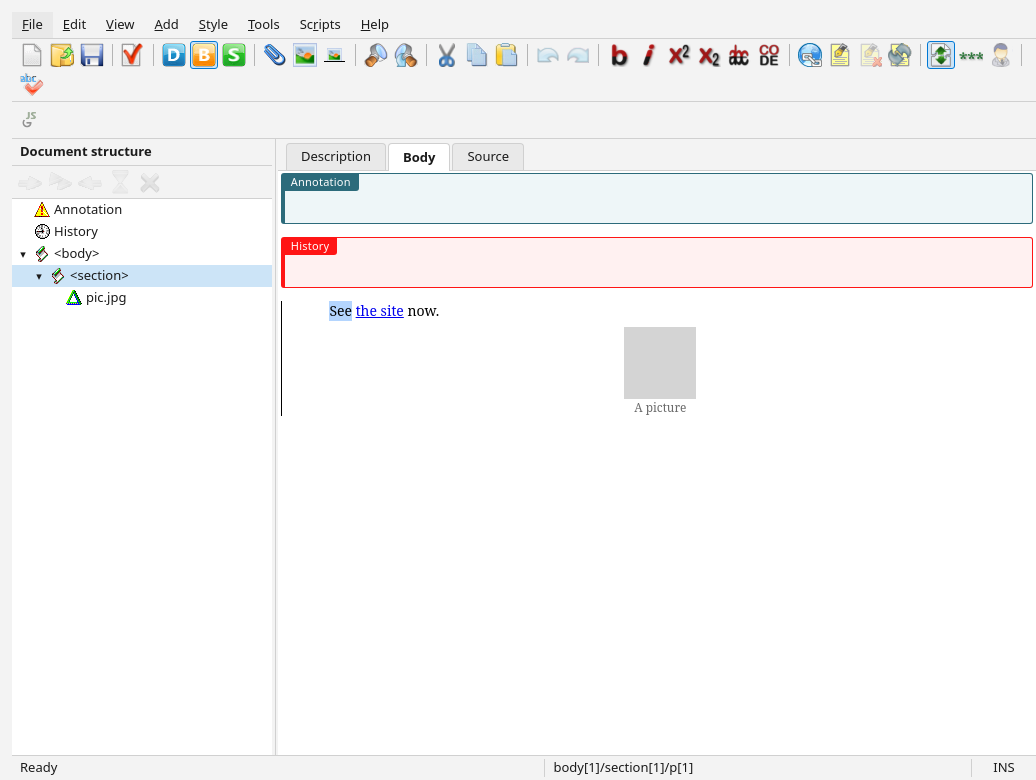
Scenario: Body view chrome (T057/T067) › opens the context menu with Cut / Copy / Paste and Select entries and publishes the selection
Check: the text box with test id "body-editor" is shown, box [281,173,1033,416]
Right-click the element with test id "body-view" at (657, 463), box [278,170,1035,755]
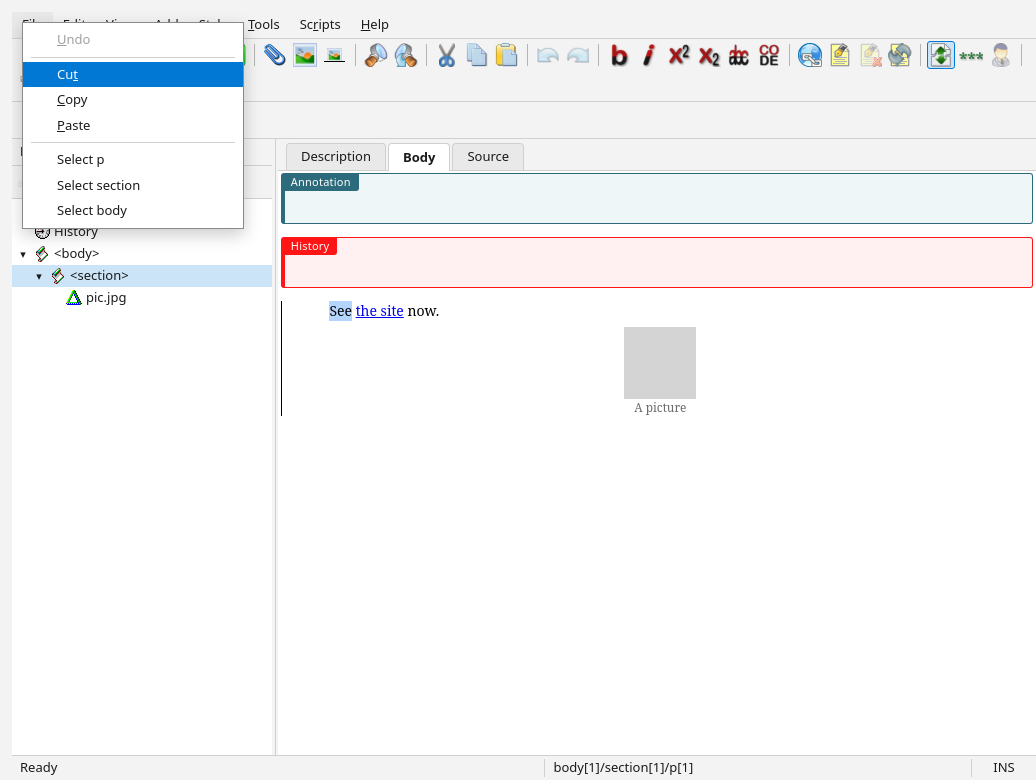
Check: the menu with test id "context-menu" shows "Undo", box [22,22,244,229]
Check: the menu item with test id "context-menu-edit.cut" reads "Cut", box [23,62,243,87]
Check: the menu item with test id "context-menu-edit.copy" reads "Copy", box [57,90,88,108]
Click the menu item with test id "context-menu-select-2" at (99, 185), box [57,176,140,194]
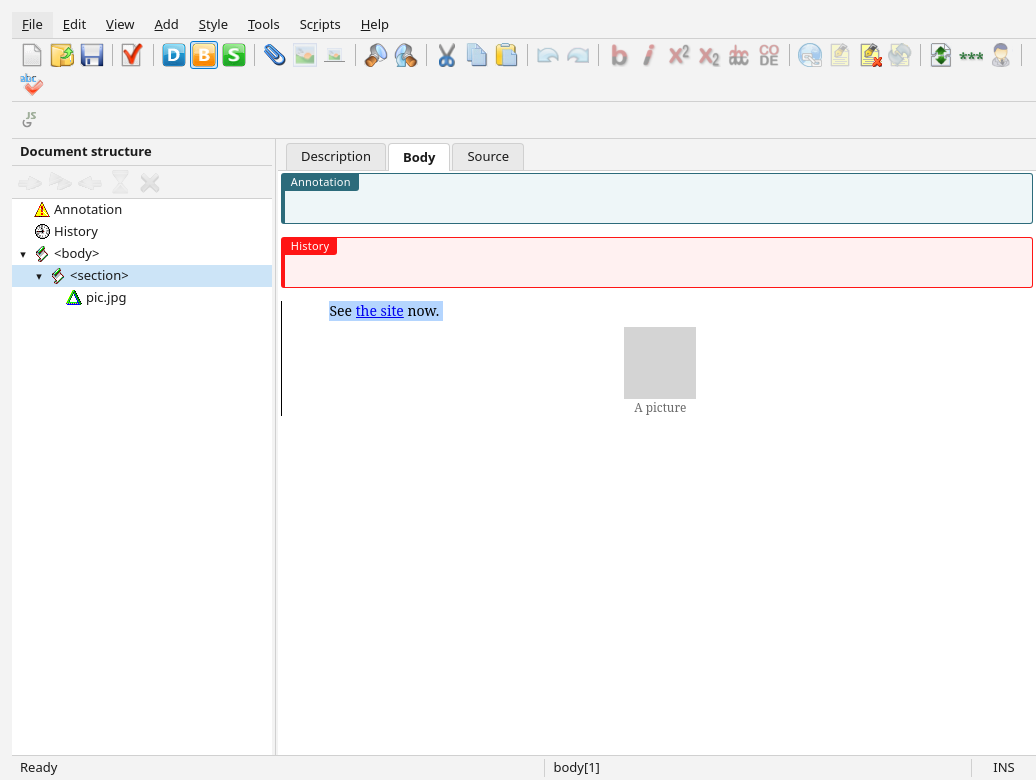
Check: the menu with test id "context-menu" is gone
# Escape closes it too.
Right-click the element with test id "body-view" at (657, 463), box [278,170,1035,755]
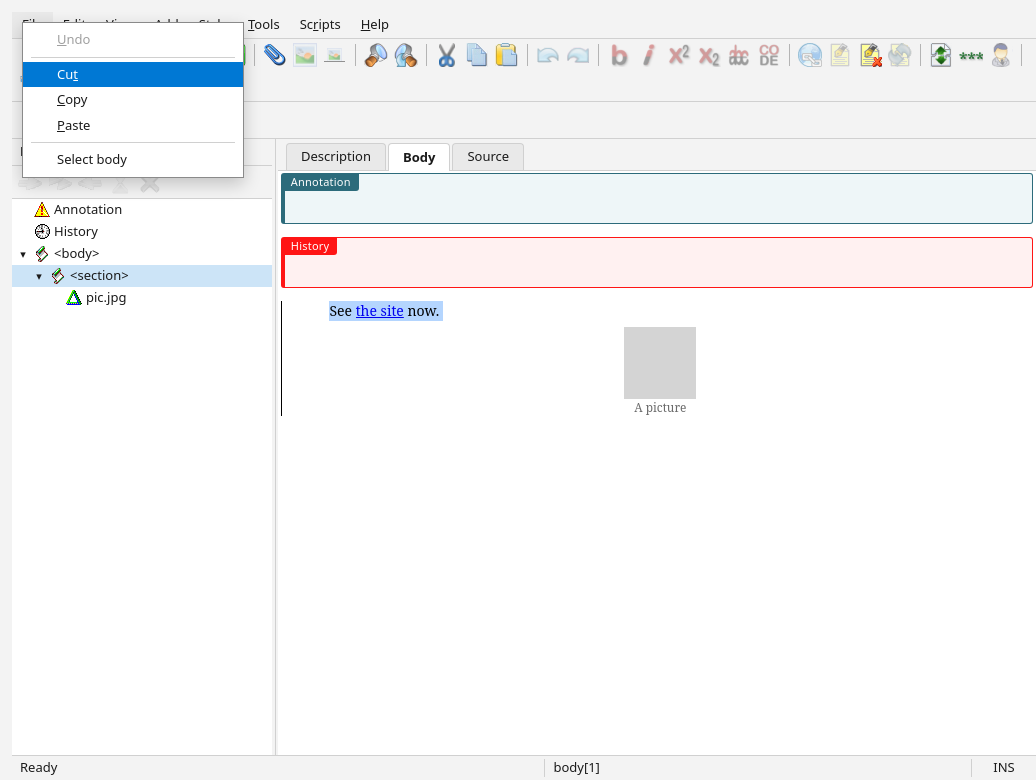
Press Escape in the menu with test id "context-menu", box [22,22,244,178]
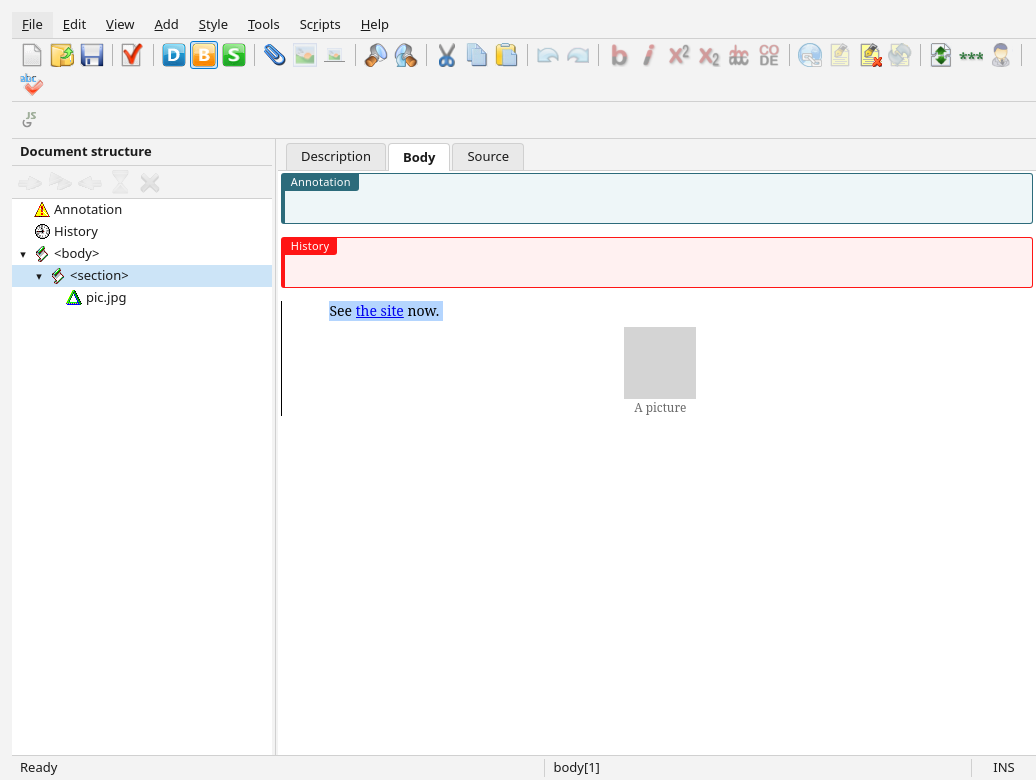
Check: the menu with test id "context-menu" is gone
